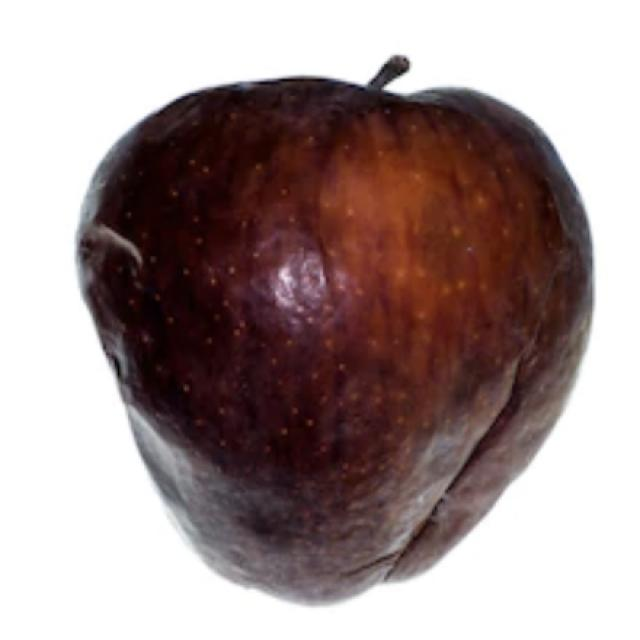rotten_apple: (74, 49, 593, 602)
